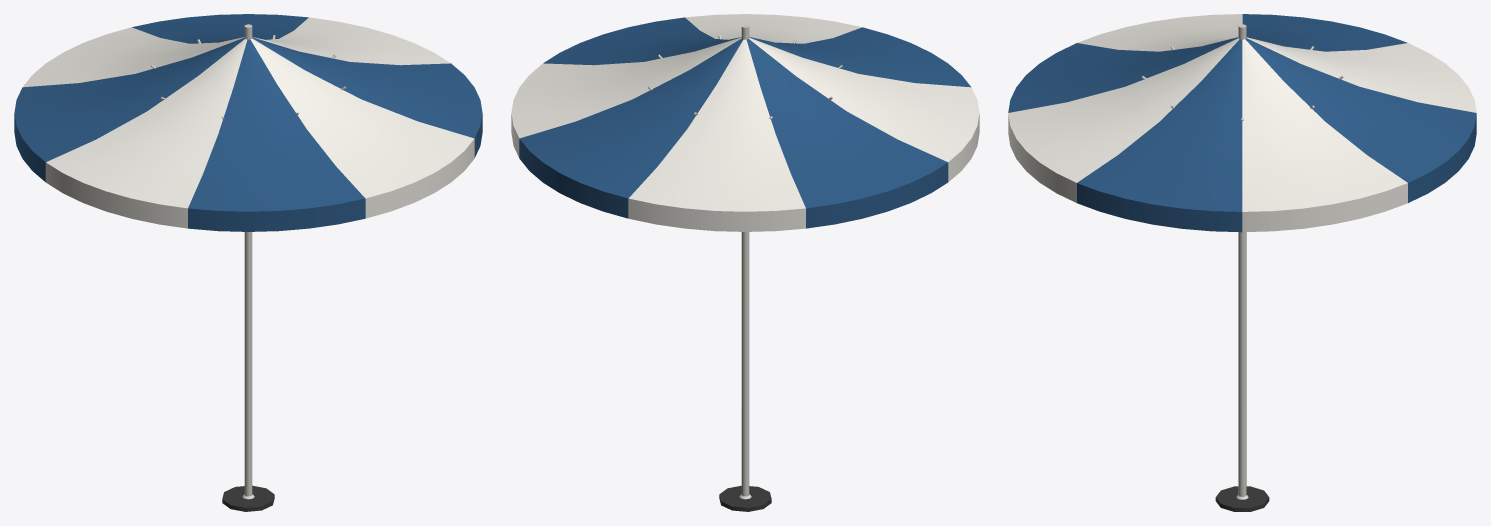
File: p-ombrellone.glb
3 views of the same model, side by side, from view 1: azimuth 30°, elevation 25°; view 2: azimuth 150°, elevation 25°; view 3: azimuth 270°, elevation 25° (orthographic).
Size of the model in its own units: 2.1 by 2.38 by 2.1.
